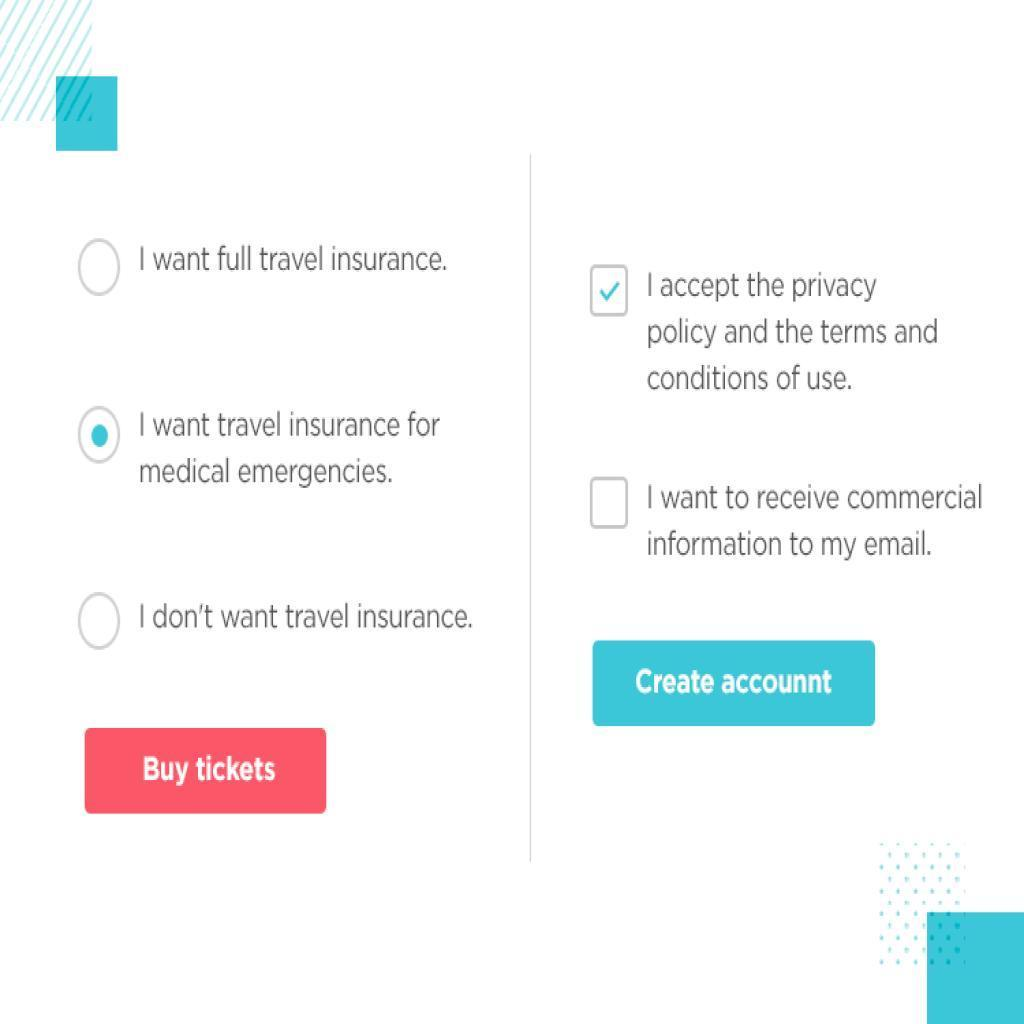button: (596, 641, 877, 727), (87, 727, 329, 814)
checkbox: (592, 478, 630, 530), (591, 267, 630, 317)
radio: (77, 234, 125, 320), (74, 590, 124, 656), (78, 404, 123, 472)
